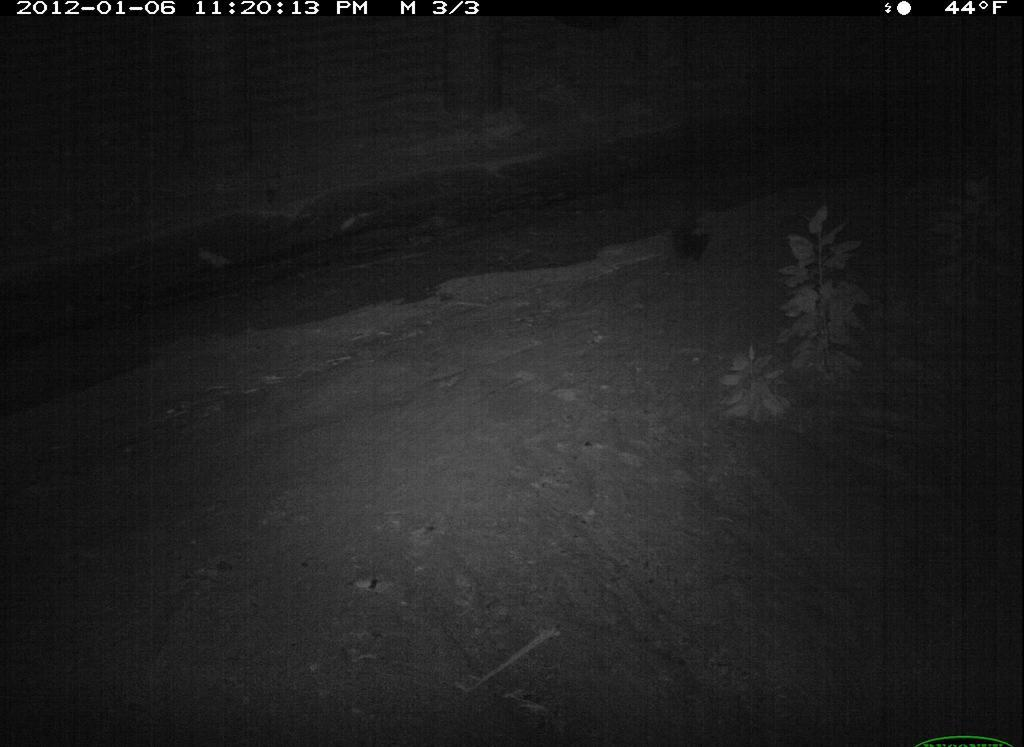skunk: (666, 192, 720, 271)
